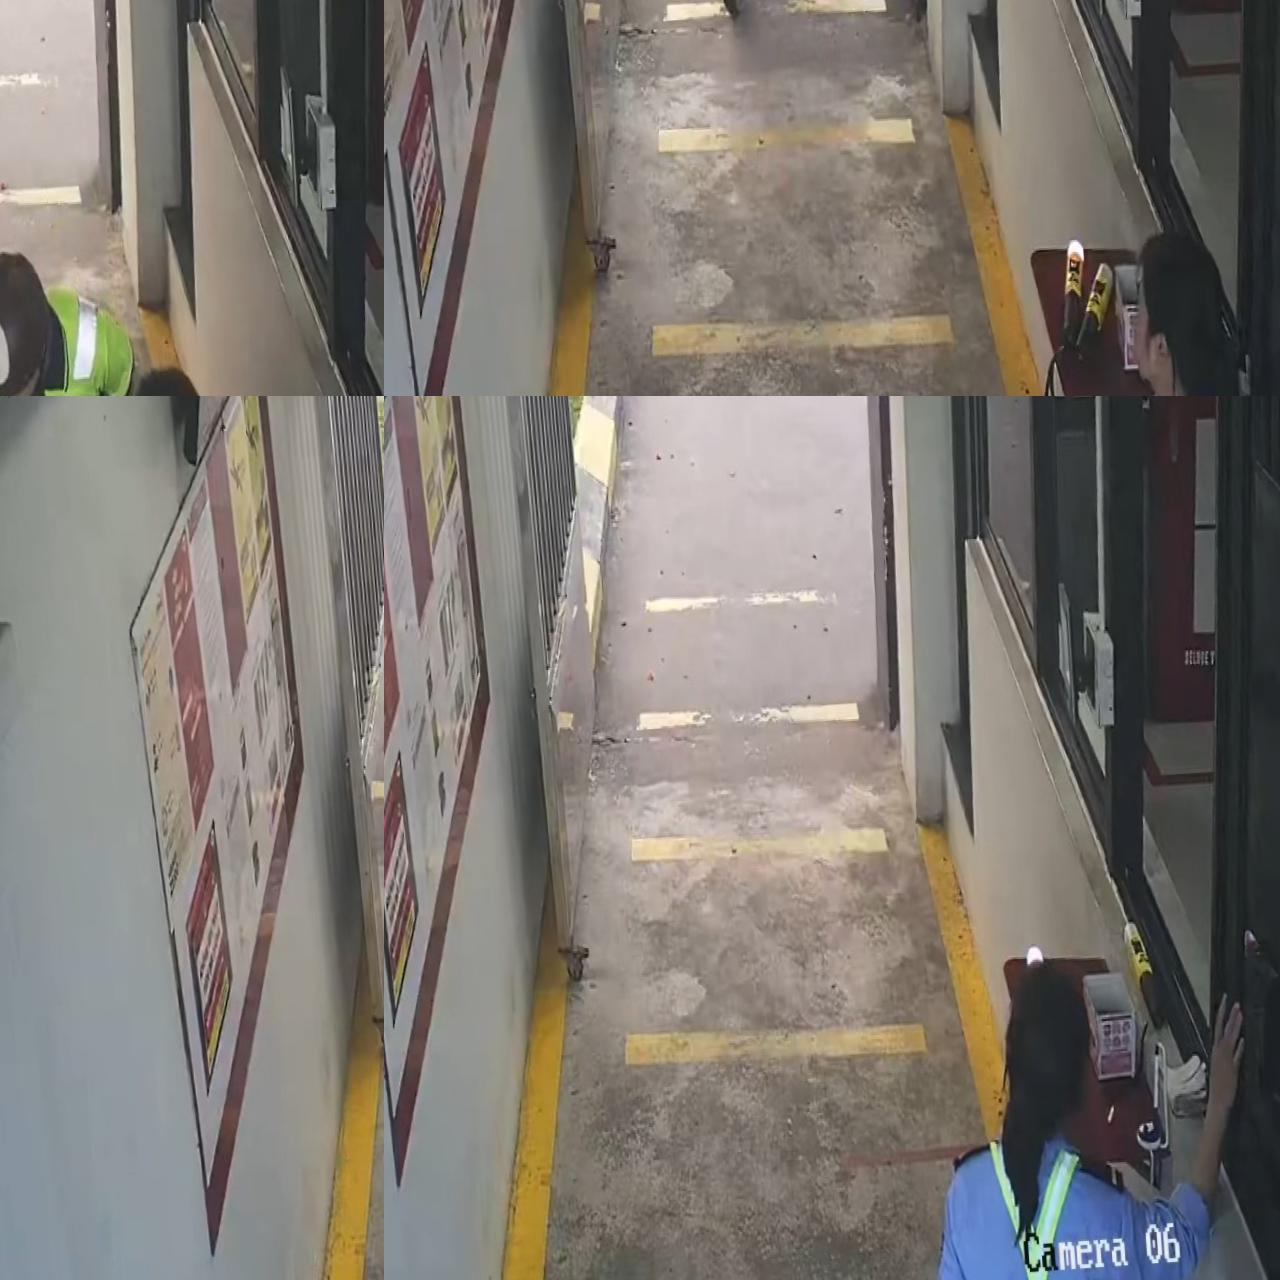breathalyzer: (1118, 911, 1175, 1040), (1073, 252, 1128, 368), (1050, 236, 1096, 349)
guard: (906, 935, 1262, 1280), (1098, 225, 1252, 396)
